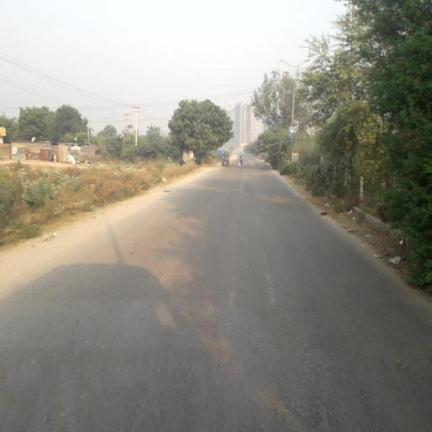Road: (0, 159, 431, 431)
